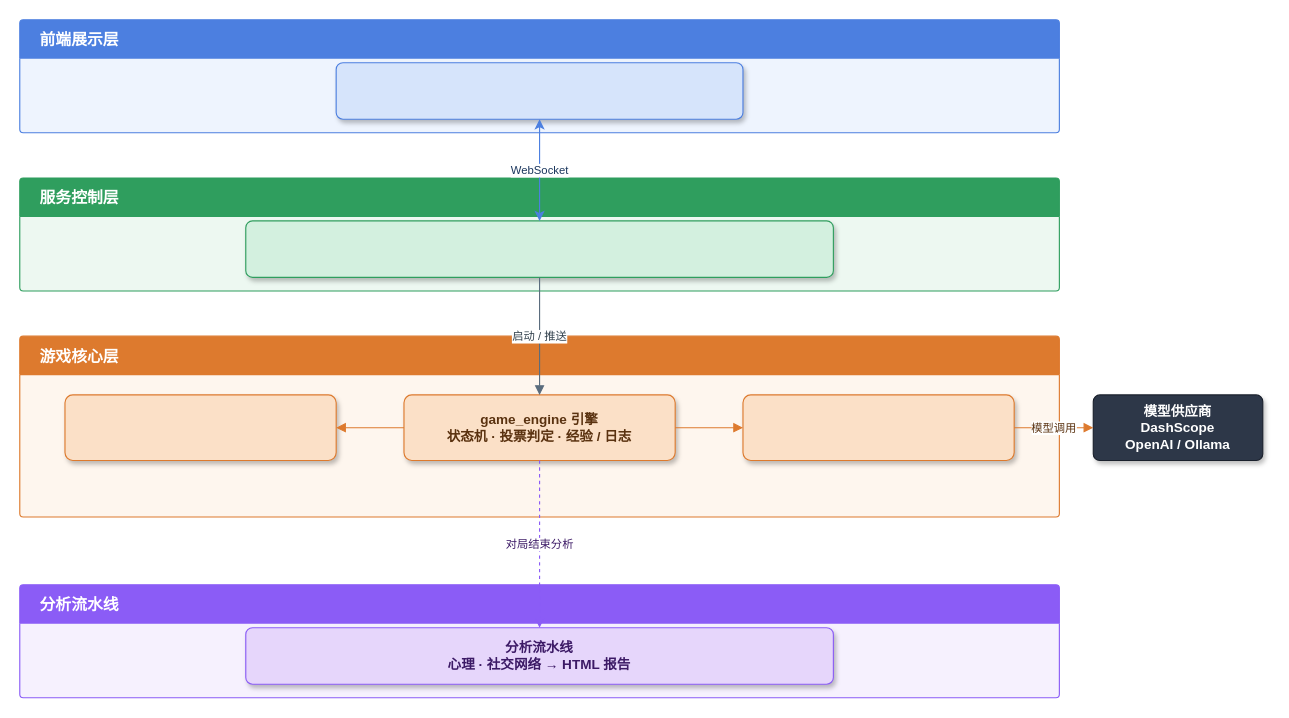
Some shapes in this 1289 by 718 pixel diagram are drawn without their labels. The centre of each missing label's shape, as x and y in pixels:
FastAPI 服务 会话管理 · 事件总线 · WebSocket: (x=540, y=250)
HumanAgent + 视角过滤: (x=201, y=428)
Web 控制台 实时可视化 · 真人交互: (x=540, y=92)
角色与结构化决策 三段式：心声 · 表现 · 发言: (x=879, y=428)
